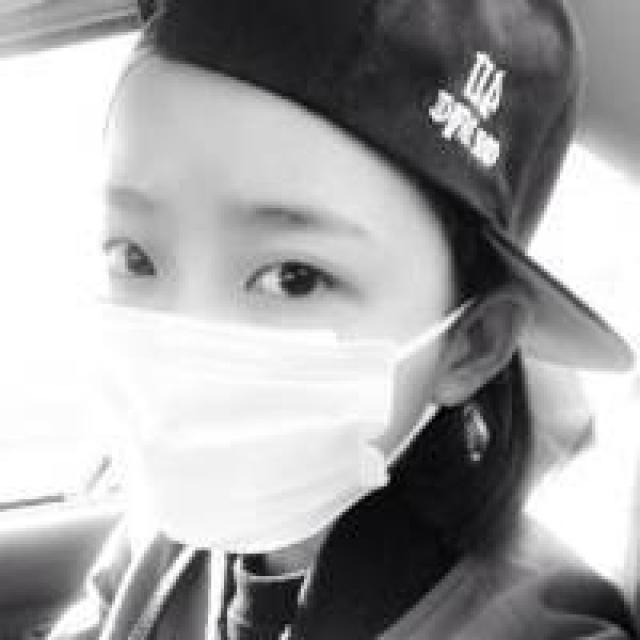mask: (70, 87, 429, 534)
